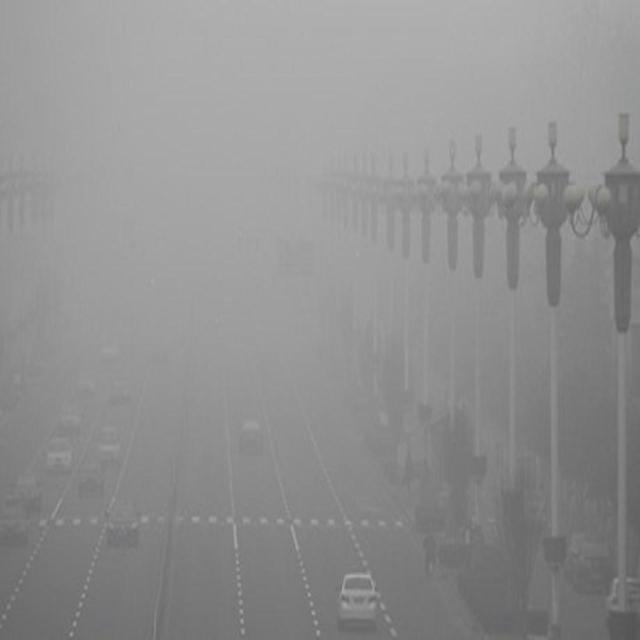Car: (331, 557, 379, 632), (0, 495, 30, 554), (12, 454, 42, 512), (106, 491, 140, 542), (238, 399, 266, 460), (42, 433, 75, 480), (76, 456, 105, 504), (54, 390, 80, 440), (97, 418, 121, 465), (108, 374, 132, 414), (73, 364, 99, 400)
